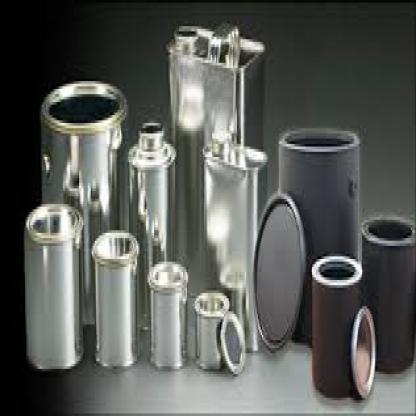METAL: (164, 23, 264, 356), (38, 76, 128, 324), (276, 126, 360, 342), (202, 126, 272, 353), (126, 115, 175, 332), (21, 199, 83, 366), (252, 191, 304, 353), (361, 217, 413, 372), (311, 251, 362, 400), (89, 228, 137, 364), (146, 256, 188, 366), (194, 288, 228, 371), (349, 301, 375, 398), (219, 312, 244, 372)
